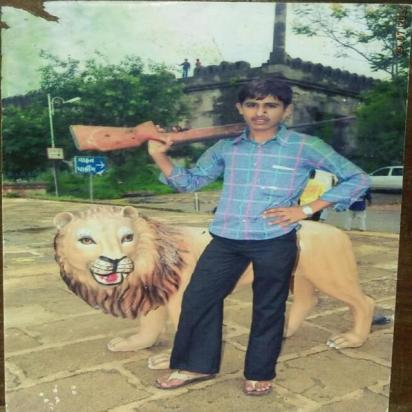Gun: (68, 115, 358, 153)
